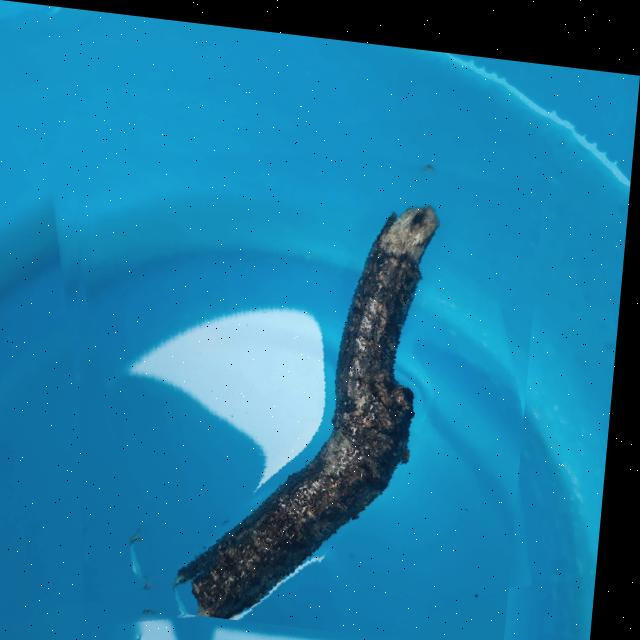litter: (41, 84, 550, 638)
